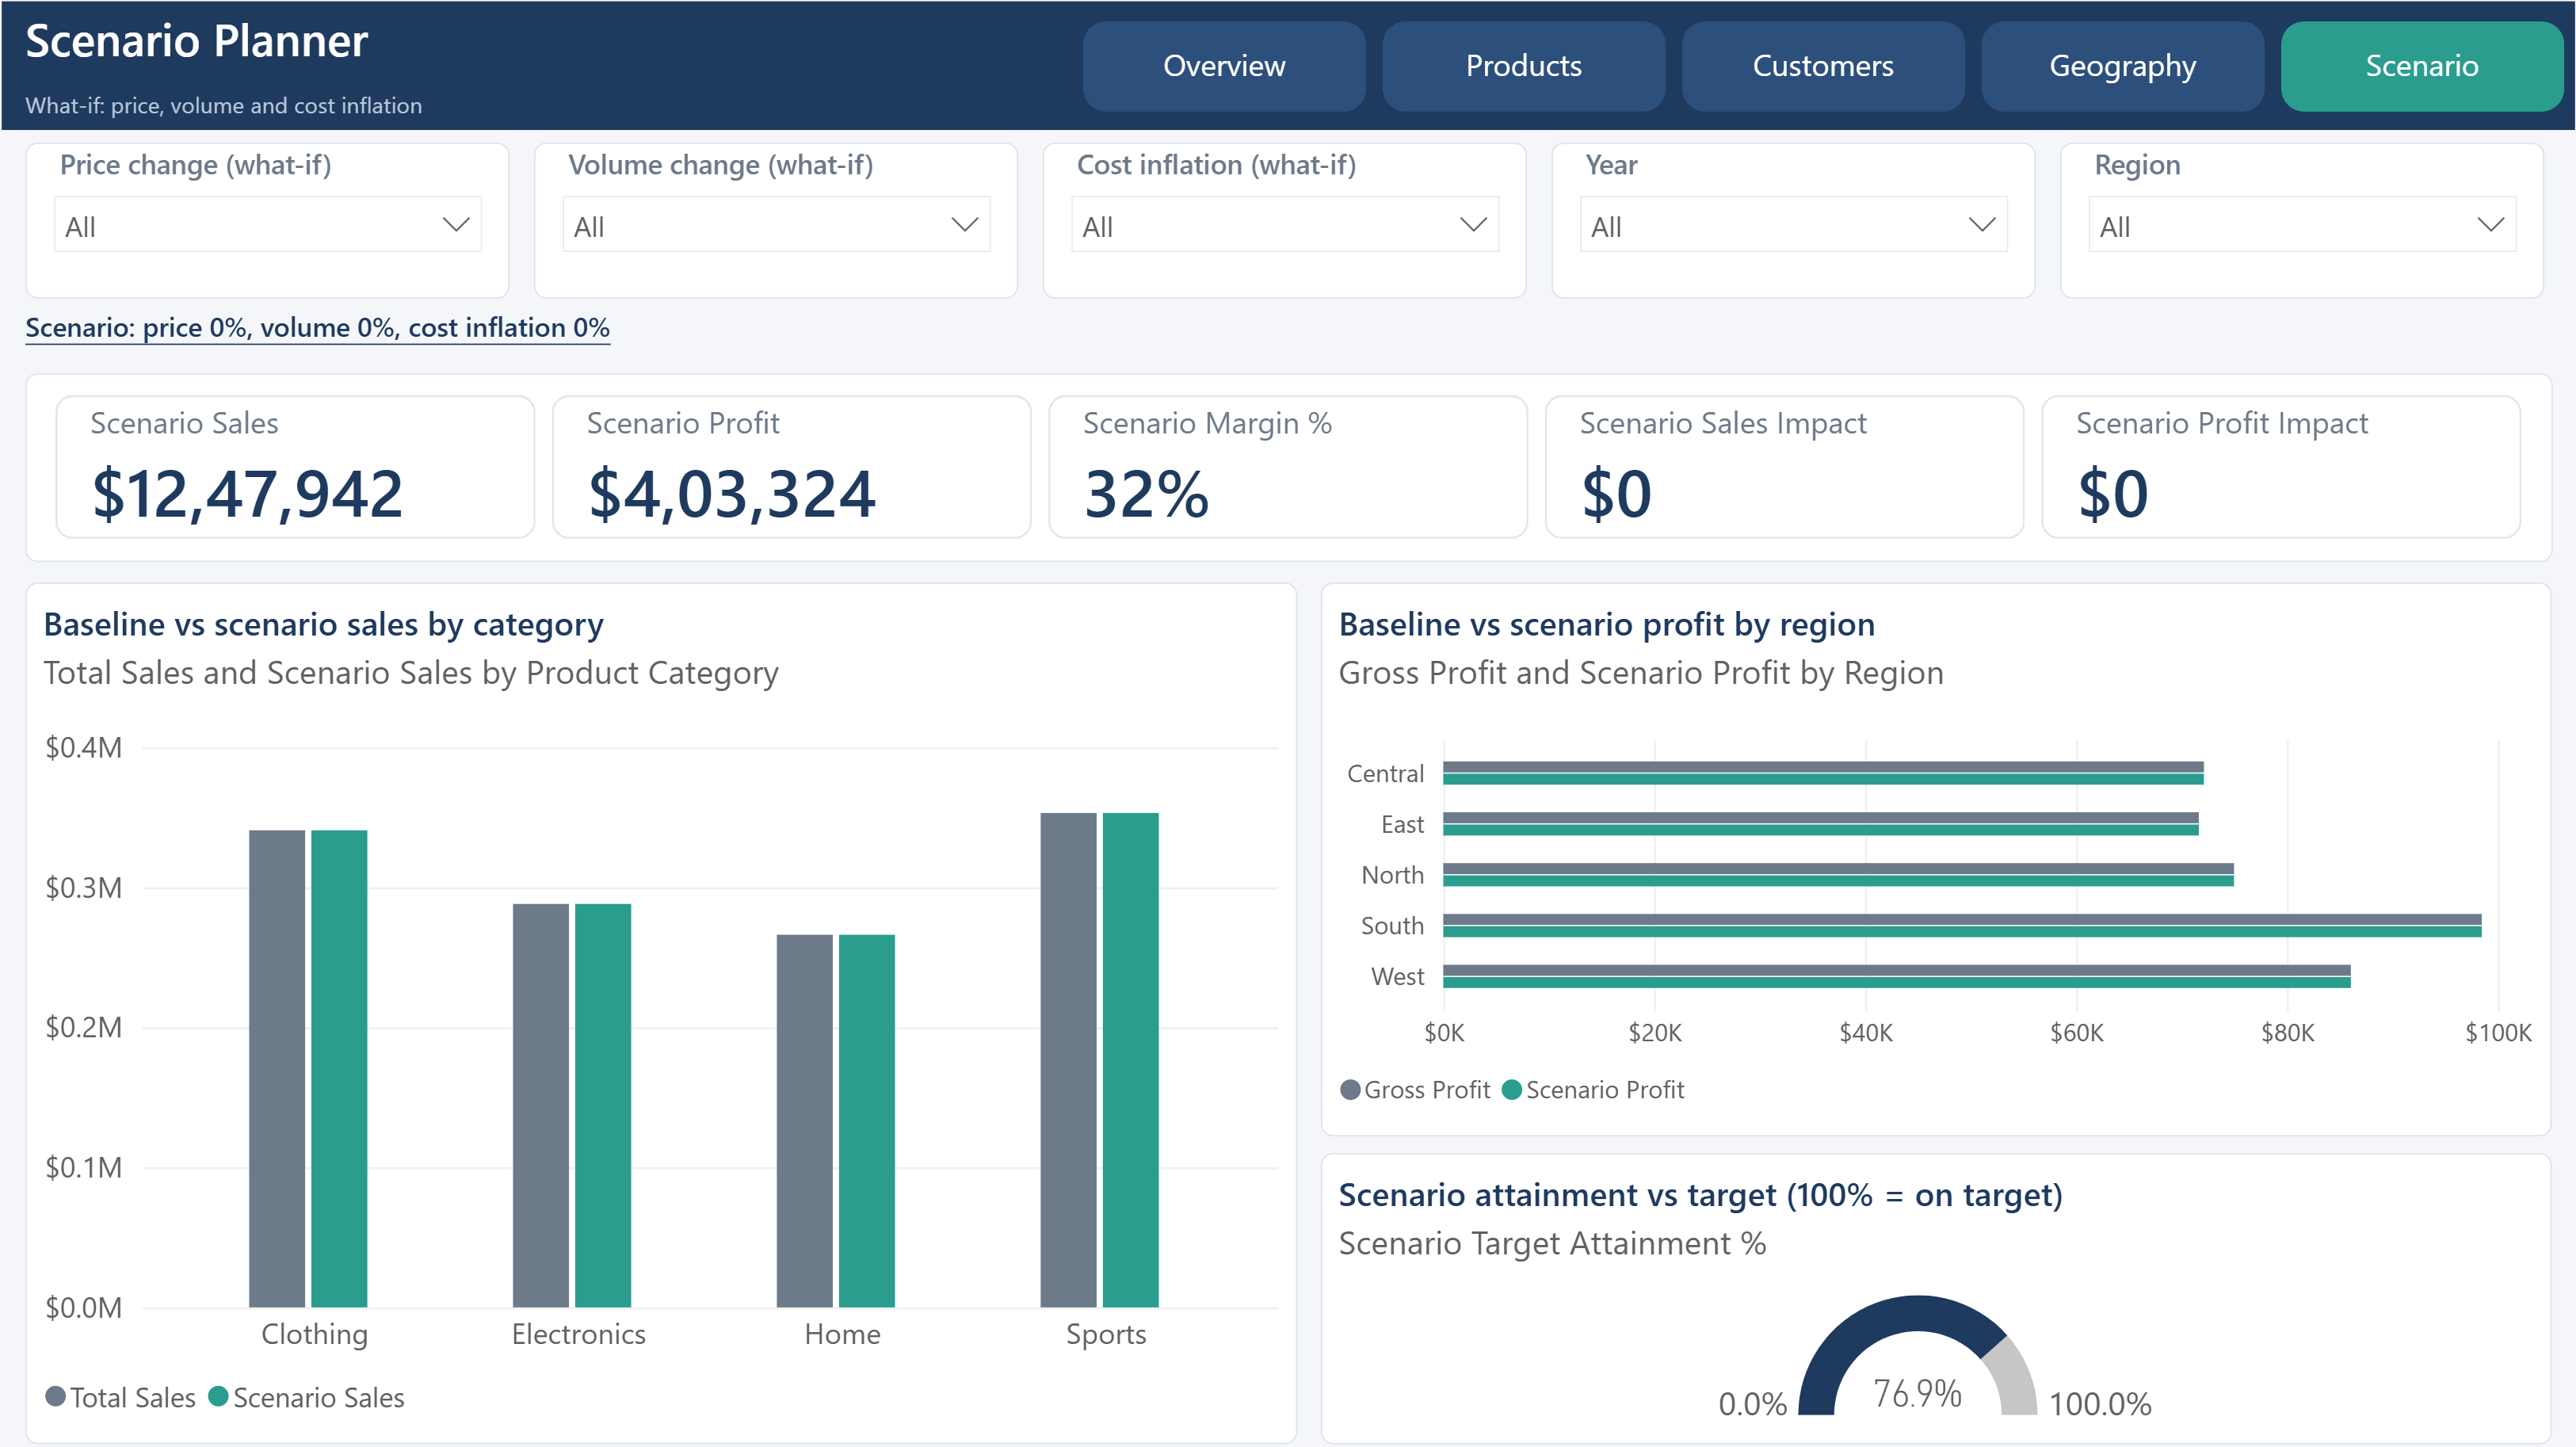

Layout of this report page (visuals, bound fields, positions):
{"tool":"powerbi","page":{"name":"Scenario Planner","canvas":[1280,720],"ordinal":4},"visuals":[{"type":"basicShape","box":[0,0,1280,64],"z":1010},{"type":"textbox","box":[24,4,470,36],"z":1020},{"type":"textbox","box":[24,40,470,22],"z":1030},{"type":"actionButton","box":[540,10,138,44],"z":1040},{"type":"actionButton","box":[686,10,138,44],"z":1050},{"type":"actionButton","box":[832,10,138,44],"z":1060},{"type":"actionButton","box":[978,10,138,44],"z":1070},{"type":"actionButton","box":[1124,10,138,44],"z":1080},{"type":"slicer","fields":{"Values":["Price Change.Price Change"]},"box":[24,70,236,76],"z":1090},{"type":"slicer","fields":{"Values":["Volume Change.Volume Change"]},"box":[272,70,236,76],"z":1100},{"type":"slicer","fields":{"Values":["Cost Inflation.Cost Inflation"]},"box":[520,70,236,76],"z":1110},{"type":"slicer","fields":{"Values":["Date.Year"]},"box":[768,70,236,76],"z":1120},{"type":"slicer","fields":{"Values":["Sales.Region"]},"box":[1016,70,236,76],"z":1130},{"type":"textbox","box":[24,150,1232,26],"z":1150},{"type":"cardVisual","fields":{"Data":["Sales.Scenario Sales","Sales.Scenario Profit","Sales.Scenario Margin %","Sales.Scenario Sales Impact","Sales.Scenario Profit Impact"]},"box":[24,182,1232,92],"z":1160},{"type":"clusteredColumnChart","title":"Baseline vs scenario sales by category","fields":{"Category":["Sales.Product Category"],"Y":["Sales.Total Sales","Sales.Scenario Sales"]},"box":[24,284,620,420],"z":1170},{"type":"clusteredBarChart","title":"Baseline vs scenario profit by region","fields":{"Category":["Sales.Region"],"Y":["Sales.Gross Profit","Sales.Scenario Profit"]},"box":[656,284,600,270],"z":1180},{"type":"gauge","title":"Scenario attainment vs target (100% = on target)","fields":{"Y":["Sales.Scenario Target Attainment %"]},"box":[656,562,600,142],"z":1190}]}

Visuals, with their boxes in screenshot pixels (x1, y1, x2, y2), scaled from the page's 1280x720 canvas onto the 2576x1447 screenshot:
basicShape: left=0, top=0, right=2575, bottom=128
textbox: left=48, top=8, right=994, bottom=80
textbox: left=48, top=80, right=994, bottom=124
actionButton: left=1087, top=20, right=1364, bottom=109
actionButton: left=1380, top=20, right=1658, bottom=109
actionButton: left=1674, top=20, right=1952, bottom=109
actionButton: left=1968, top=20, right=2246, bottom=109
actionButton: left=2262, top=20, right=2540, bottom=109
slicer - Price Change.Price Change: left=48, top=141, right=523, bottom=293
slicer - Volume Change.Volume Change: left=548, top=141, right=1022, bottom=293
slicer - Cost Inflation.Cost Inflation: left=1047, top=141, right=1521, bottom=293
slicer - Date.Year: left=1546, top=141, right=2021, bottom=293
slicer - Sales.Region: left=2044, top=141, right=2520, bottom=293
textbox: left=48, top=301, right=2528, bottom=353
cardVisual - Sales.Scenario Sales x Sales.Scenario Profit: left=48, top=366, right=2528, bottom=551
"Baseline vs scenario sales by category" clusteredColumnChart: left=48, top=571, right=1296, bottom=1415
"Baseline vs scenario profit by region" clusteredBarChart: left=1320, top=571, right=2528, bottom=1113
"Scenario attainment vs target (100% = on target)" gauge: left=1320, top=1129, right=2528, bottom=1415
